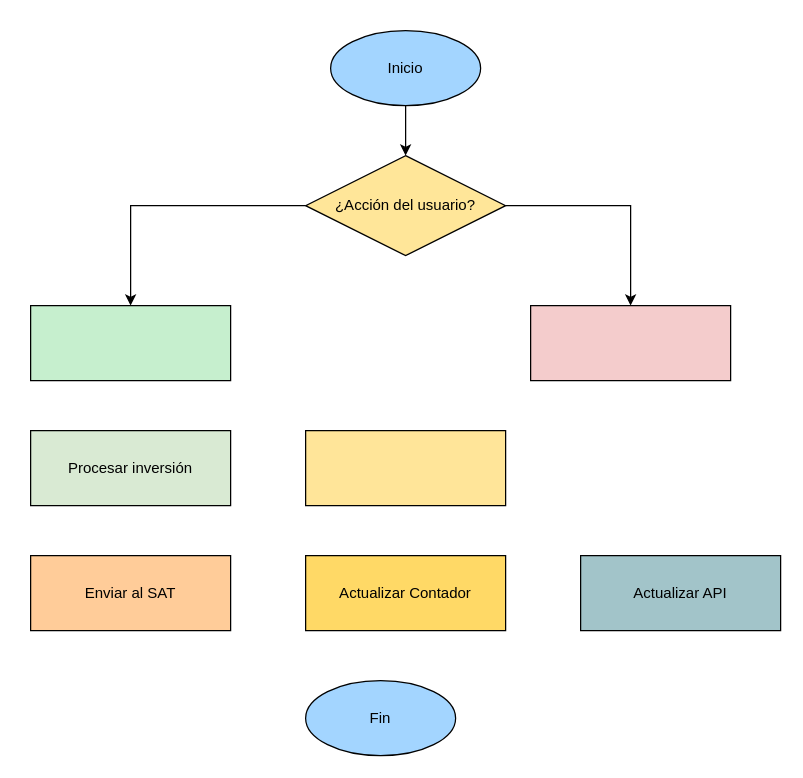
Some shapes in this 803 by 778 pixel diagram are drawn without their labels. The shapes that lost their labels are listed below. From the top down, each one's box as (x1, y1, x2, y2) in pixels, then its label:
(29, 304, 231, 381): Realizar inversión
(529, 304, 731, 381): Recoger inversión
(304, 429, 506, 506): Registrar impuestos
